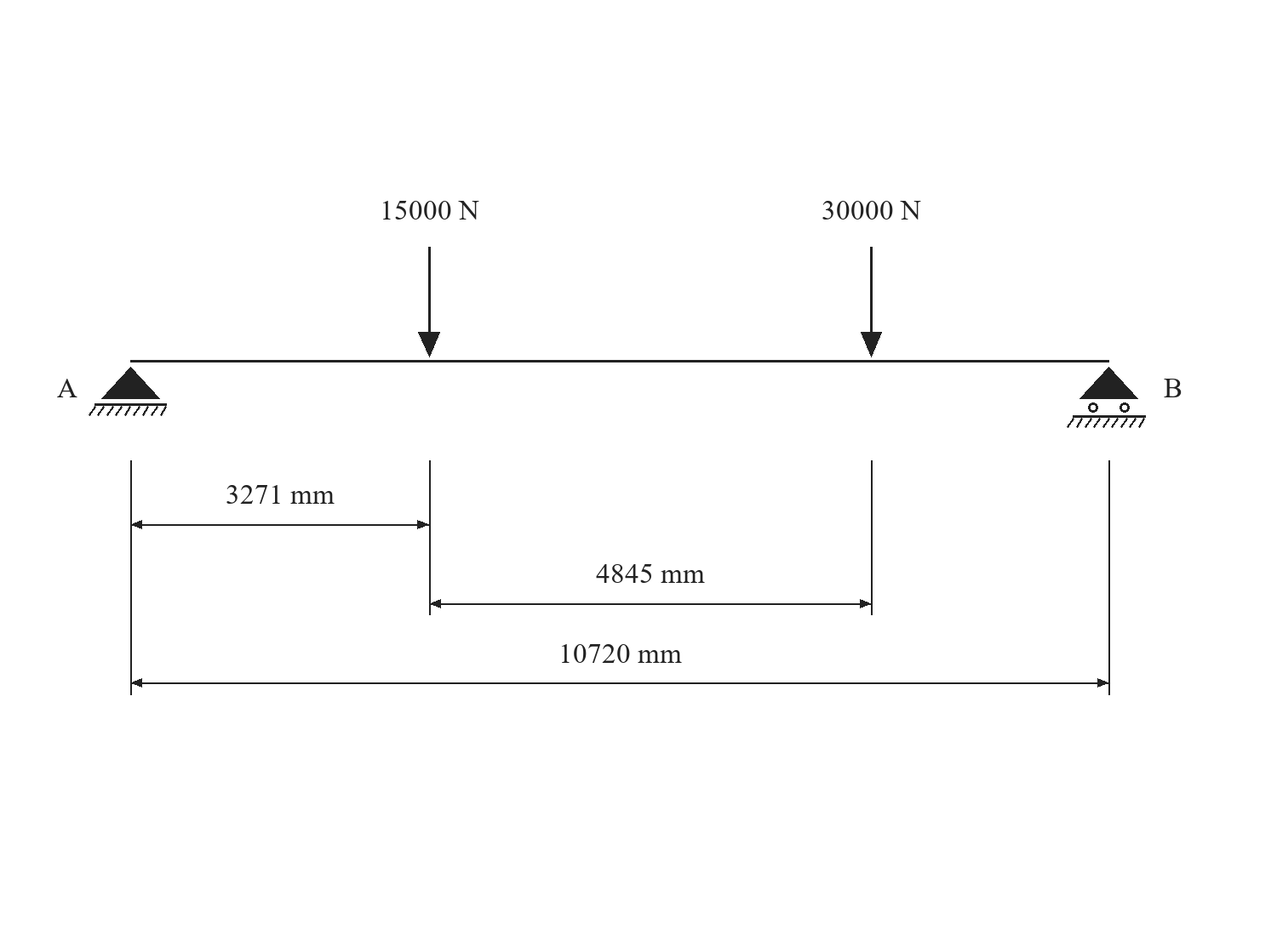pin_support: (89, 367, 167, 416)
point_load: (418, 247, 440, 357), (861, 247, 882, 357)
roller_support: (1067, 367, 1146, 428)
